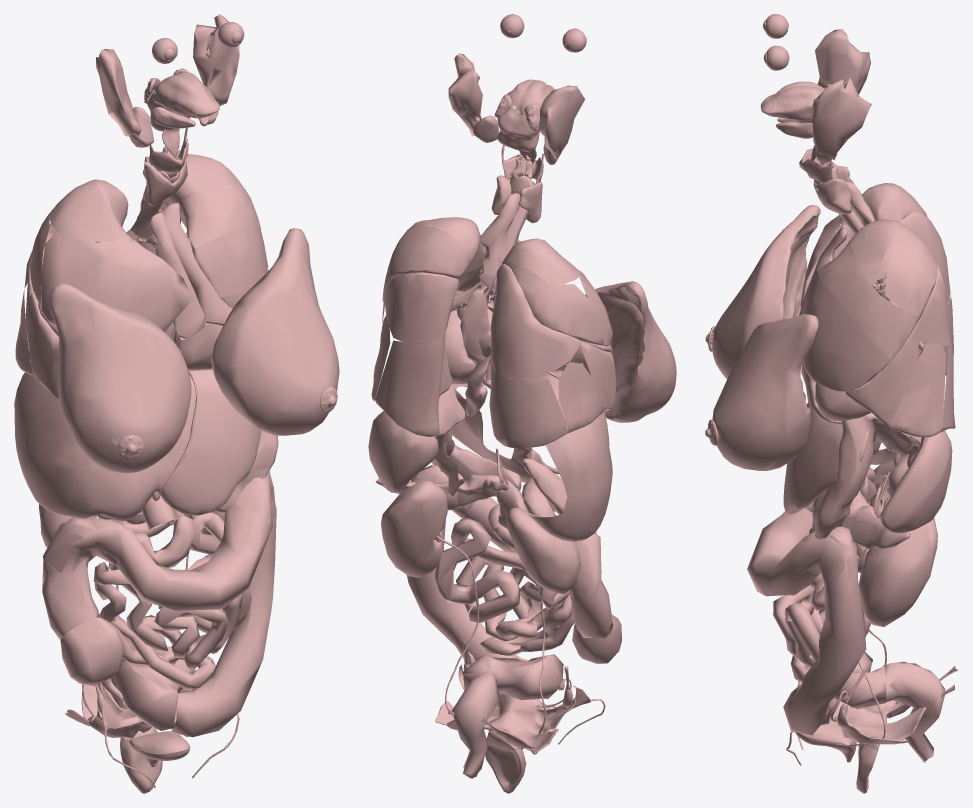
The model's file is cuerpo-f-organo.glb.
3 renders of one model, left to right at view 1: azimuth 30°, elevation 25°; view 2: azimuth 150°, elevation 25°; view 3: azimuth 270°, elevation 25°, orthographic. The views are drawn at different scales.
Visible parts, largest first — view 1: higado, tejido_graso_de_la_mama_derecha, tejido_graso_de_la_mama_izquierda, colon_transverso, segmento_anterior_del_lobulo_superior_del_pulmon_derecho, ileon, colon_descendente, timo, segmento_apical_del_lobulo_superior_del_pulmon_derecho, segmento_lingular_superior_del_lobulo_superior_del_pulmon_iz, colon_ascendente, segmento_anterior_del_lobulo_superior_del_pulmon_izquierdo (+24 smaller); view 2: higado, tejido_graso_de_la_mama_derecha, segmento_superior_del_lobulo_inferior_del_pulmon_derecho, ileon, segmento_basal_posterior_del_lobulo_inferior_del_pulmon_izqu, rinon_izquierdo, yeyuno, segmento_basal_posterior_del_lobulo_inferior_del_pulmon_dere, segmento_superior_del_lobulo_inferior_del_pulmon_izquierdo, esofago, rinon_derecho, segmento_posterior_del_lobulo_superior_del_pulmon_derecho (+30 smaller); view 3: tejido_graso_de_la_mama_izquierda, tejido_graso_de_la_mama_derecha, colon_descendente, rinon_izquierdo, estomago, segmento_anterior_del_lobulo_superior_del_pulmon_izquierdo, bazo, higado, colon_transverso, segmento_basal_lateral_del_lobulo_inferior_del_pulmon_izquie, segmento_lingular_superior_del_lobulo_superior_del_pulmon_iz, segmento_posterior_del_lobulo_superior_del_pulmon_izquierdo (+30 smaller).
Part boxes in pixels (x1=…): higado: x1=14, y1=365, x2=261, y2=521; tejido_graso_de_la_mama_derecha: x1=50, y1=283, x2=191, y2=472; tejido_graso_de_la_mama_izquierda: x1=211, y1=228, x2=339, y2=435; colon_transverso: x1=91, y1=478, x2=272, y2=610; segmento_anterior_del_lobulo_superior_del_pulmon_derecho: x1=41, y1=231, x2=188, y2=331; ileon: x1=93, y1=562, x2=251, y2=690; colon_descendente: x1=171, y1=500, x2=276, y2=737; timo: x1=150, y1=203, x2=232, y2=339; segmento_apical_del_lobulo_superior_del_pulmon_derecho: x1=49, y1=179, x2=128, y2=241; segmento_lingular_superior_del_lobulo_superior_del_pulmon_iz: x1=192, y1=223, x2=267, y2=297; colon_ascendente: x1=42, y1=521, x2=100, y2=639; segmento_anterior_del_lobulo_superior_del_pulmon_izquierdo: x1=174, y1=186, x2=260, y2=249; higado: x1=451, y1=370, x2=612, y2=541; tejido_graso_de_la_mama_derecha: x1=578, y1=281, x2=676, y2=422; segmento_superior_del_lobulo_inferior_del_pulmon_derecho: x1=490, y1=264, x2=580, y2=378; ileon: x1=456, y1=556, x2=574, y2=655; segmento_basal_posterior_del_lobulo_inferior_del_pulmon_izqu: x1=375, y1=332, x2=452, y2=436; rinon_izquierdo: x1=381, y1=481, x2=447, y2=577; yeyuno: x1=433, y1=518, x2=527, y2=622; segmento_basal_posterior_del_lobulo_inferior_del_pulmon_dere: x1=489, y1=353, x2=567, y2=448; segmento_superior_del_lobulo_inferior_del_pulmon_izquierdo: x1=384, y1=272, x2=459, y2=343; esofago: x1=460, y1=192, x2=520, y2=416; rinon_derecho: x1=506, y1=507, x2=580, y2=593; segmento_posterior_del_lobulo_superior_del_pulmon_derecho: x1=511, y1=267, x2=604, y2=345; tejido_graso_de_la_mama_izquierda: x1=712, y1=314, x2=818, y2=470; tejido_graso_de_la_mama_derecha: x1=712, y1=205, x2=820, y2=379; colon_descendente: x1=783, y1=534, x2=866, y2=735; rinon_izquierdo: x1=859, y1=517, x2=937, y2=626; estomago: x1=811, y1=411, x2=924, y2=539; segmento_anterior_del_lobulo_superior_del_pulmon_izquierdo: x1=817, y1=240, x2=919, y2=360; bazo: x1=880, y1=430, x2=952, y2=532; higado: x1=783, y1=403, x2=924, y2=514; colon_transverso: x1=747, y1=508, x2=833, y2=596; segmento_basal_lateral_del_lobulo_inferior_del_pulmon_izquie: x1=889, y1=343, x2=946, y2=437; segmento_lingular_superior_del_lobulo_superior_del_pulmon_iz: x1=802, y1=269, x2=890, y2=370; segmento_posterior_del_lobulo_superior_del_pulmon_izquierdo: x1=885, y1=226, x2=937, y2=316.
Bounding box in the file's own units: 0.2891 × 0.8297 × 0.2491.
